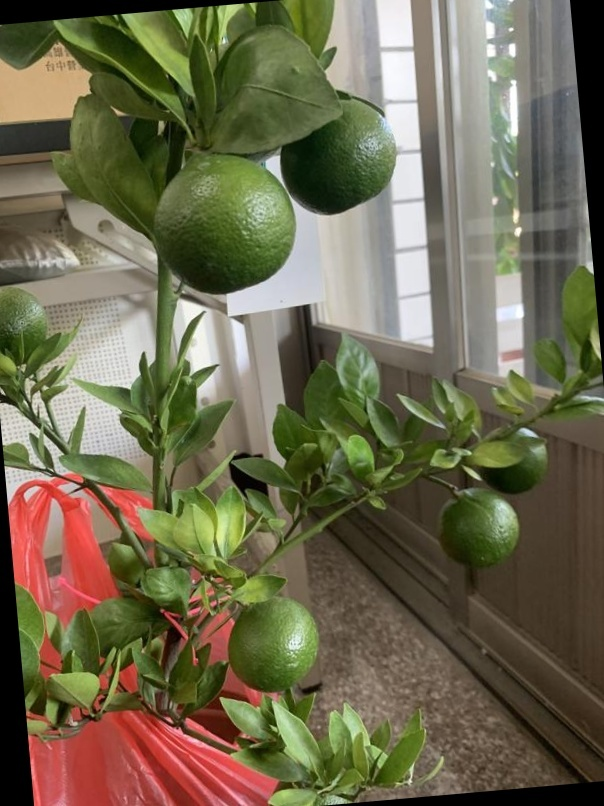Tangerine: (153, 151, 299, 296), (278, 99, 402, 219), (228, 594, 323, 692), (435, 488, 521, 566), (2, 281, 50, 367)
